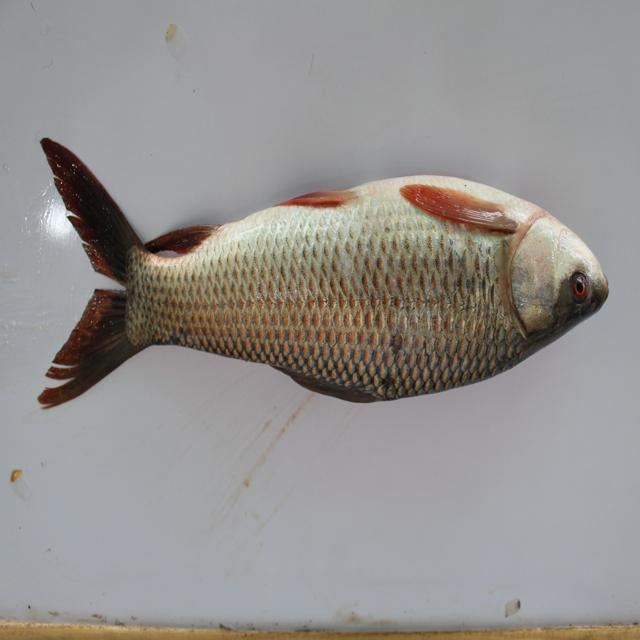Rohu: (29, 103, 611, 422)
